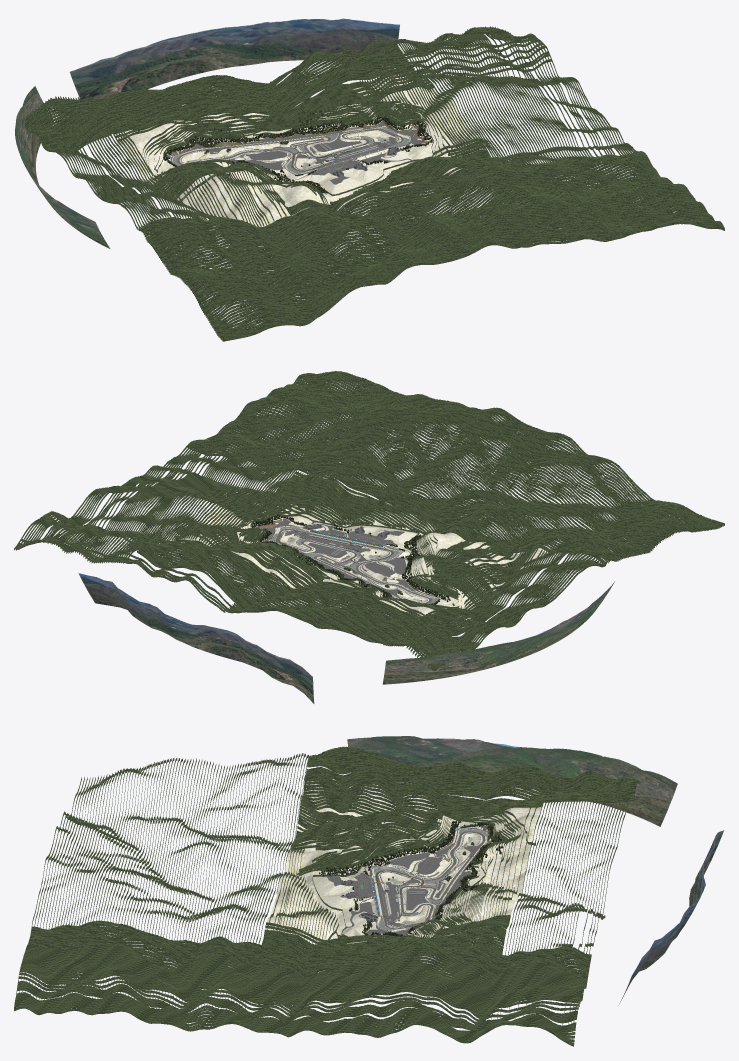
The model's file is okayama_drift.glb.
3 renders of one model, top to bottom at view 1: azimuth 30°, elevation 25°; view 2: azimuth 150°, elevation 25°; view 3: azimuth 270°, elevation 25°, orthographic. The views are drawn at different scales.
Parts seen in each view (by area): view 1: 04 - Default_vegetation_chunk0, 04 - Default_vegetation_chunk1, 04 - Default_vegetation_chunk2, Material #1751_chunk0, 03 - Default_vegetation_chunk0, 01 - Default_chunk0, Material #552_chunk0, 03 - Default_vegetation_chunk1, Material #1761_chunk0, Material #1764_chunk0; view 2: 04 - Default_vegetation_chunk0, 04 - Default_vegetation_chunk1, 04 - Default_vegetation_chunk2, Material #1751_chunk0, 03 - Default_vegetation_chunk0, 01 - Default_chunk0, Material #552_chunk0, Material #1761_chunk0, 03 - Default_vegetation_chunk1, Material #1764_chunk0; view 3: 04 - Default_vegetation_chunk1, 04 - Default_vegetation_chunk0, 04 - Default_vegetation_chunk2, 03 - Default_vegetation_chunk0, Material #1751_chunk0, 01 - Default_chunk0, Material #552_chunk0, Material #1761_chunk0, Material #1764_chunk0, 03 - Default_vegetation_chunk1.
Part boxes in pixels (x1,y1,x2,y2): 04 - Default_vegetation_chunk0: [25, 87, 696, 326]; 04 - Default_vegetation_chunk1: [35, 26, 724, 341]; 04 - Default_vegetation_chunk2: [25, 27, 724, 228]; Material #1751_chunk0: [15, 18, 399, 248]; 03 - Default_vegetation_chunk0: [115, 74, 485, 226]; 01 - Default_chunk0: [170, 121, 425, 184]; Material #552_chunk0: [163, 118, 433, 195]; 03 - Default_vegetation_chunk1: [148, 97, 465, 215]; Material #1761_chunk0: [163, 110, 432, 193]; Material #1764_chunk0: [161, 111, 428, 194]; 04 - Default_vegetation_chunk0: [187, 394, 672, 670]; 04 - Default_vegetation_chunk1: [14, 371, 724, 651]; 04 - Default_vegetation_chunk2: [15, 371, 571, 668]; Material #1751_chunk0: [78, 573, 614, 703]; 03 - Default_vegetation_chunk0: [172, 474, 546, 616]; 01 - Default_chunk0: [260, 518, 440, 603]; Material #552_chunk0: [251, 516, 447, 603]; Material #1761_chunk0: [250, 514, 450, 604]; 03 - Default_vegetation_chunk1: [208, 505, 504, 609]; Material #1764_chunk0: [251, 516, 454, 605]; 04 - Default_vegetation_chunk1: [14, 758, 636, 1046]; 04 - Default_vegetation_chunk0: [36, 746, 640, 1028]; 04 - Default_vegetation_chunk2: [14, 753, 631, 1042]; 03 - Default_vegetation_chunk0: [265, 793, 541, 954]; Material #1751_chunk0: [347, 736, 724, 1005]; 01 - Default_chunk0: [327, 827, 491, 935]; Material #552_chunk0: [318, 822, 494, 936]; Material #1761_chunk0: [320, 821, 503, 936]; Material #1764_chunk0: [319, 820, 502, 936]; 03 - Default_vegetation_chunk1: [348, 798, 453, 938].
Size of what is drawn, in the model's own units: 3277 by 395 by 3434.
Materials: 165 (165 with a texture image).
